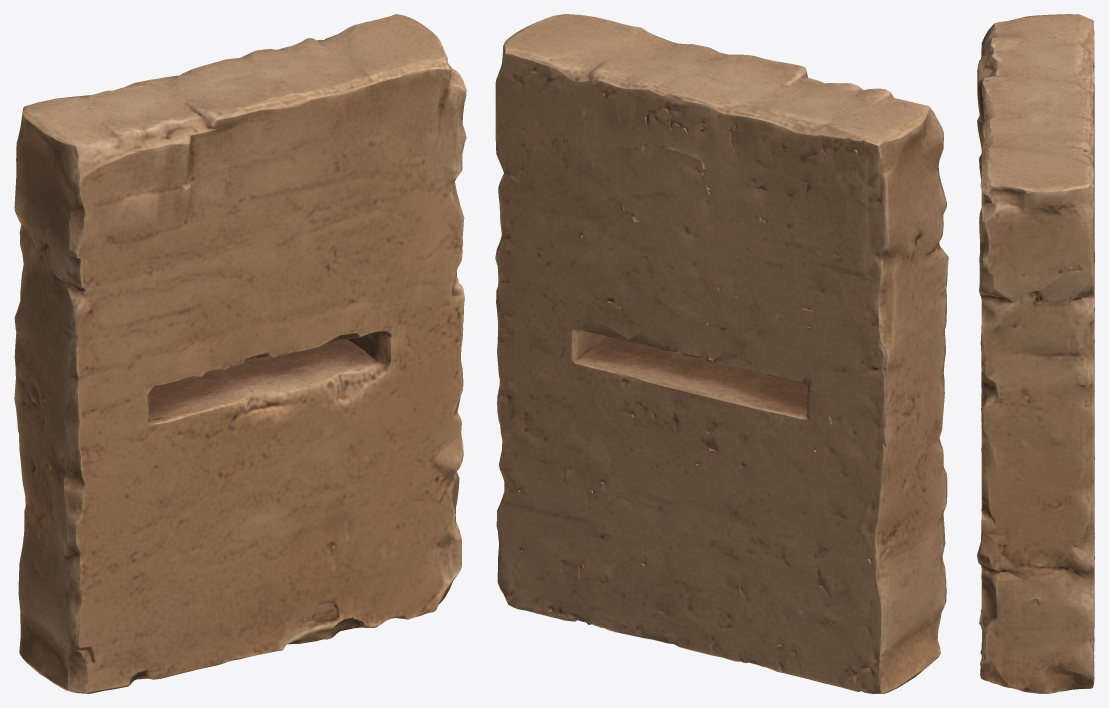
File: firing_slit.glb
3 views of the same model, side by side, from view 1: azimuth 30°, elevation 25°; view 2: azimuth 150°, elevation 25°; view 3: azimuth 270°, elevation 25° (orthographic). The views are drawn at different scales.
Visible parts, largest first — view 1: world; view 2: world; view 3: world.
Part boxes in pixels (<box>): world: <box>14,14,466,693</box>; world: <box>495,14,948,693</box>; world: <box>977,14,1094,693</box>.
Size of the model in its own units: 0.3006 by 0.4 by 0.0842.
Materials: 1 (1 with a texture image).
